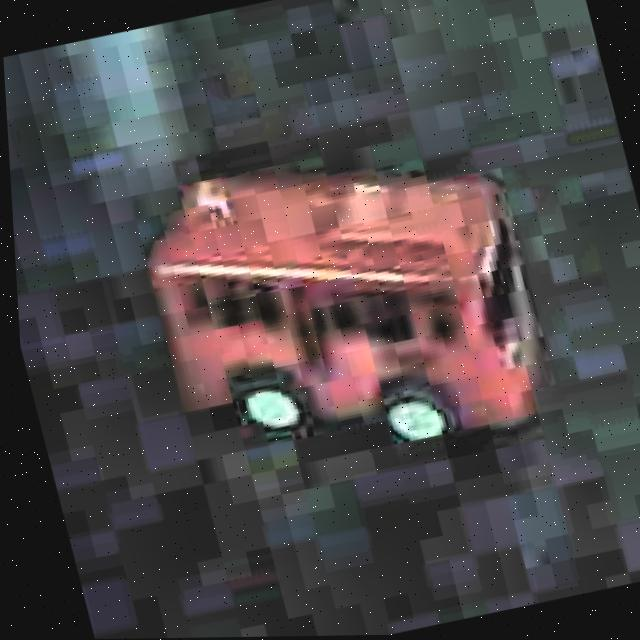bus: (114, 108, 577, 508)
